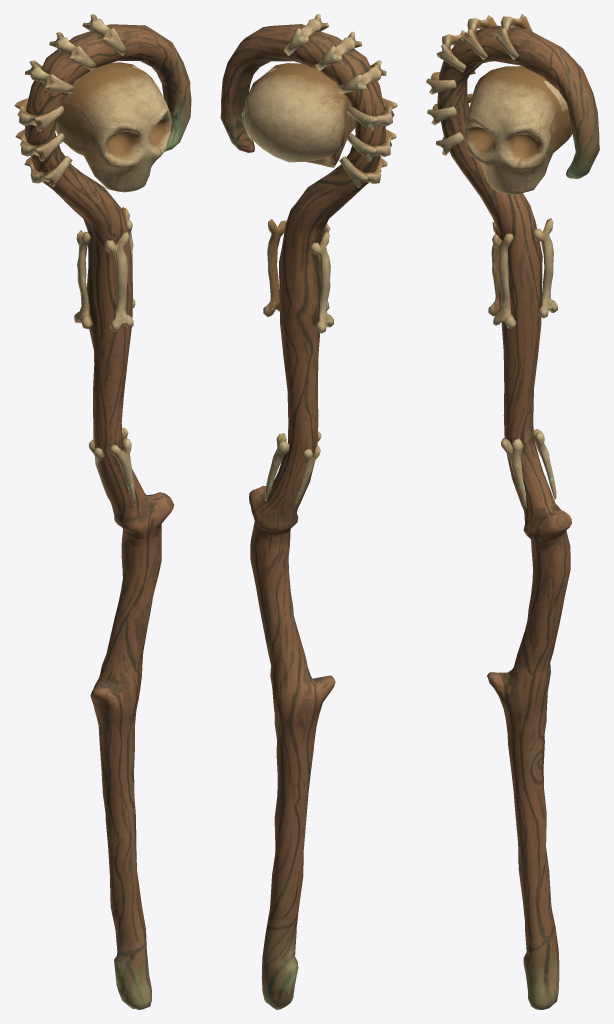
File: Bastón el bueno.fbx
3 views of the same model, side by side, from view 1: azimuth 30°, elevation 25°; view 2: azimuth 150°, elevation 25°; view 3: azimuth 330°, elevation 25° (orthographic).
Parts seen in each view (by area): view 1: Palo, Cráneo, Hueso 1, Hueso 1.003, Vertebra.004, Hueso 2, Vertebra.003, Vertebra, Vertebra.002, Vertebra.005, Vertebra.006; view 2: Palo, Cráneo, Hueso 1.003, Hueso 1.002, Vertebra.004, Vertebra.005, Vertebra.003, Vertebra, Vertebra.002, Vertebra.006, Hueso 2.002, Hueso 2.003; view 3: Palo, Cráneo, Hueso 1, Hueso 1.002, Hueso 2, Vertebra, Vertebra.002, Vertebra.003, Hueso 2.002, Hueso 1.003.
Boxes of the visible parts, x1,y1,x2,y2 form: Palo: [24, 24, 191, 1009]; Cráneo: [55, 62, 171, 192]; Hueso 1: [104, 231, 133, 331]; Hueso 1.003: [74, 230, 92, 329]; Vertebra.004: [14, 98, 64, 131]; Hueso 2: [110, 438, 135, 504]; Vertebra.003: [25, 60, 74, 93]; Vertebra: [82, 14, 127, 55]; Vertebra.002: [49, 32, 96, 70]; Vertebra.005: [15, 129, 65, 161]; Vertebra.006: [24, 156, 72, 186]; Palo: [220, 24, 385, 1009]; Cráneo: [244, 63, 355, 167]; Hueso 1.003: [310, 231, 333, 333]; Hueso 1.002: [263, 219, 286, 316]; Vertebra.004: [347, 98, 397, 131]; Vertebra.005: [346, 129, 396, 161]; Vertebra.003: [337, 60, 386, 93]; Vertebra: [284, 14, 328, 55]; Vertebra.002: [315, 31, 361, 70]; Vertebra.006: [339, 156, 387, 187]; Hueso 2.002: [264, 433, 289, 500]; Hueso 2.003: [294, 445, 320, 508]; Palo: [437, 25, 599, 1009]; Cráneo: [463, 66, 572, 194]; Hueso 1: [492, 233, 516, 328]; Hueso 1.002: [532, 218, 557, 318]; Hueso 2: [501, 438, 526, 507]; Vertebra: [493, 14, 532, 59]; Vertebra.002: [461, 15, 496, 60]; Vertebra.003: [436, 30, 466, 72]; Hueso 2.002: [533, 429, 556, 499]; Hueso 1.003: [488, 222, 499, 316].
Size of the model in its own units: 36.38 by 203 by 21.34.
